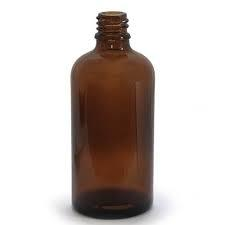glass: (51, 5, 166, 221)
